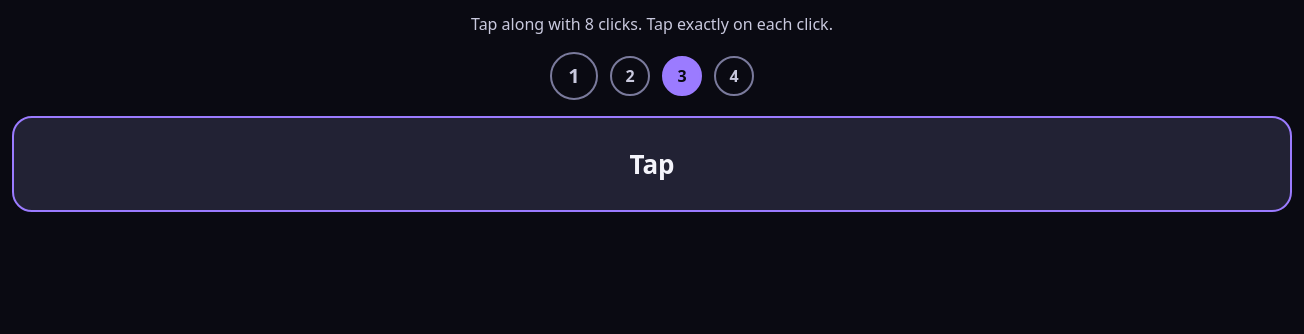
Test: LatencyCalibration › reports the median error of the last 6 taps
Earlier steps of the test are not shown.
Press the mouse on the button with test id "tap-target": (652, 164) x1=12 y1=116 x2=1292 y2=212
Wait 759 ms
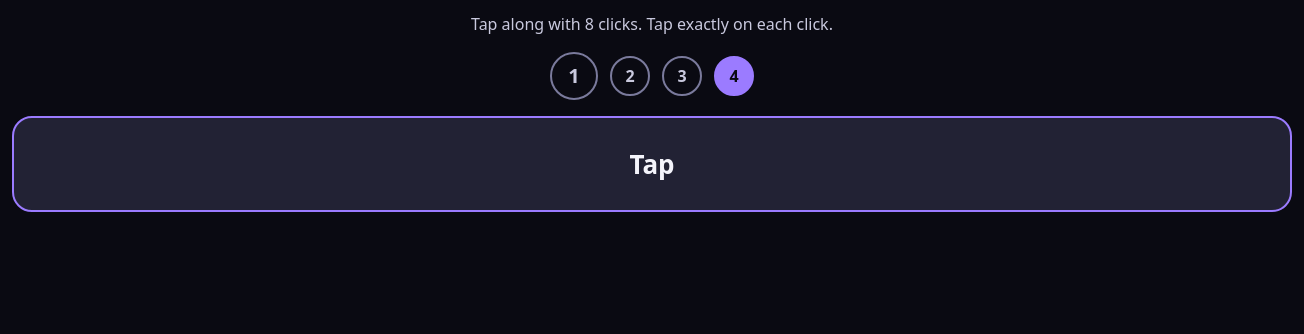
Press the mouse on the button with test id "tap-target": (652, 164) x1=12 y1=116 x2=1292 y2=212
Wait 759 ms
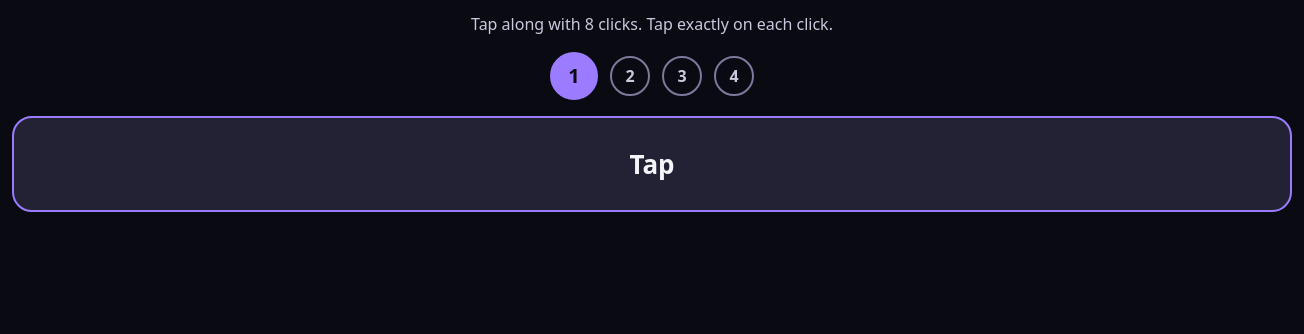
Press the mouse on the button with test id "tap-target": (652, 164) x1=12 y1=116 x2=1292 y2=212
Wait 759 ms
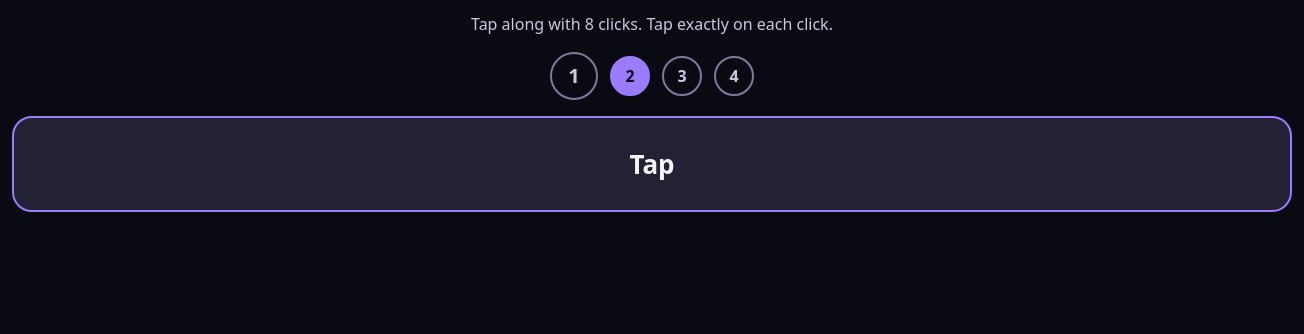
Press the mouse on the button with test id "tap-target": (652, 164) x1=12 y1=116 x2=1292 y2=212
Wait 760 ms
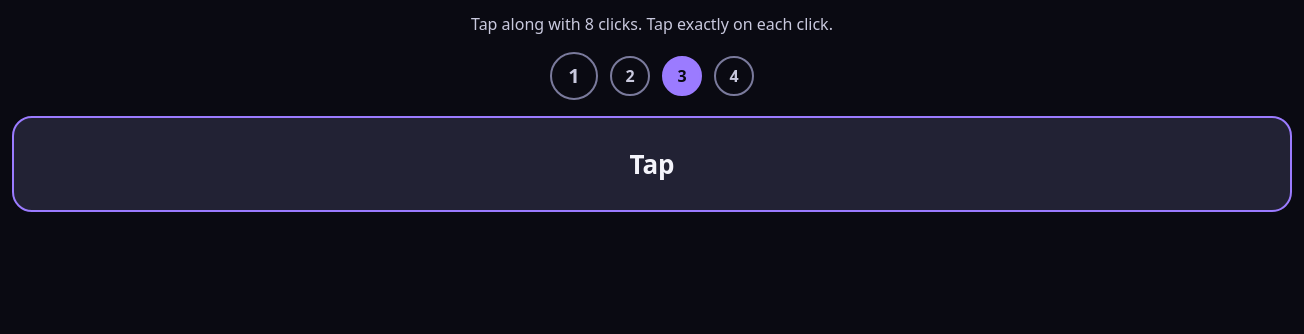
Press the mouse on the button with test id "tap-target": (652, 164) x1=12 y1=116 x2=1292 y2=212
Wait 760 ms
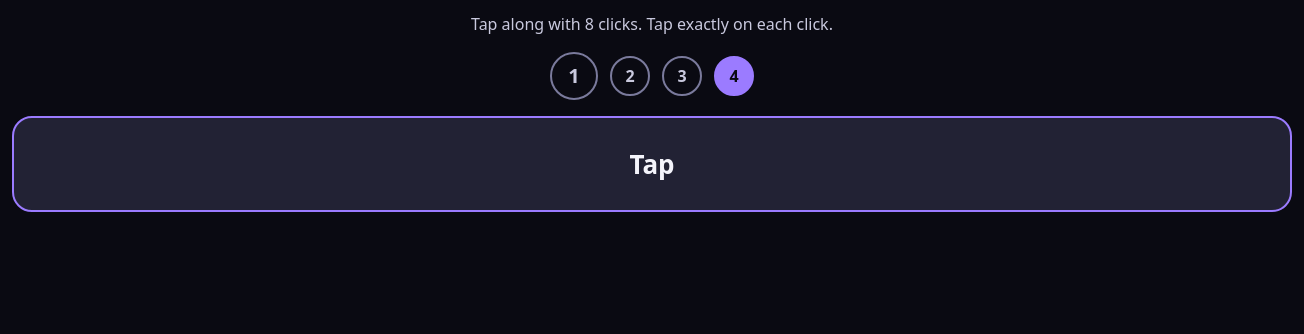
Press the mouse on the button with test id "tap-target": (652, 164) x1=12 y1=116 x2=1292 y2=212
Wait 650 ms
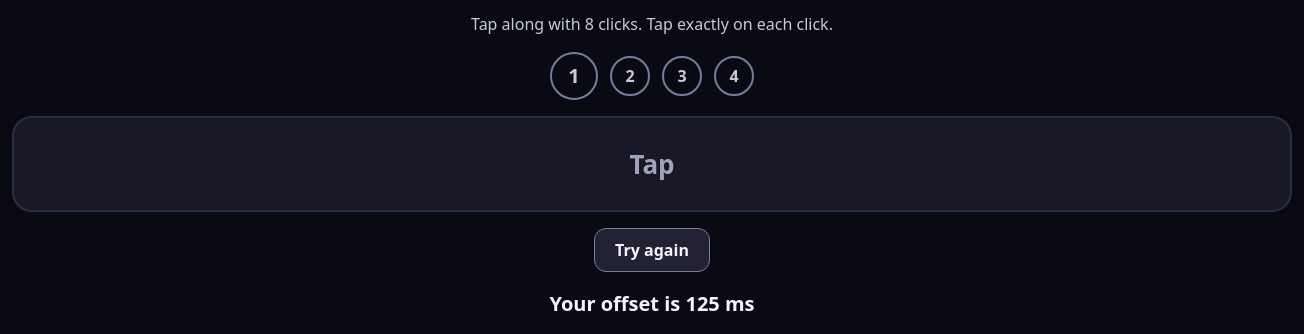
Check: the text with test id "calibration-result" shows "125 ms", box x1=549 y1=290 x2=754 y2=317
